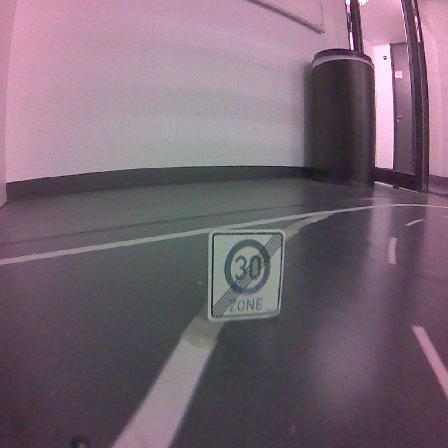30_ZONE_END: (208, 230, 286, 322)
